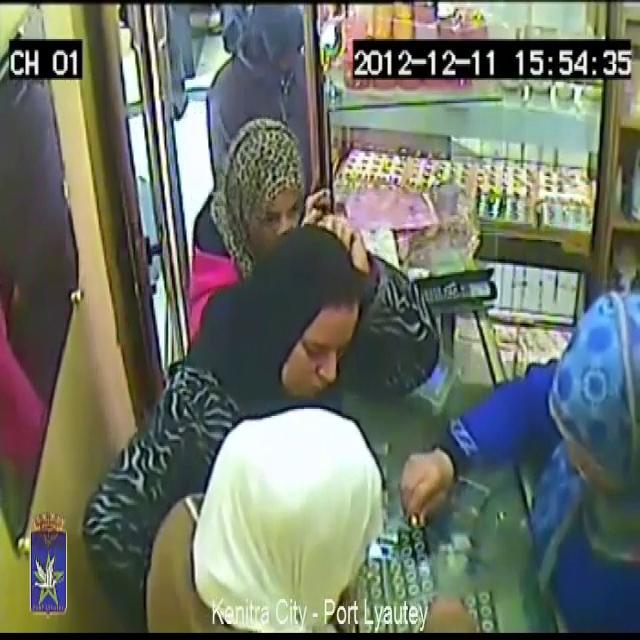Product: (409, 489, 431, 532)
normal: (121, 372, 401, 640), (246, 195, 378, 412), (194, 44, 296, 294), (223, 0, 323, 188)
shoplifting: (397, 229, 640, 640)
